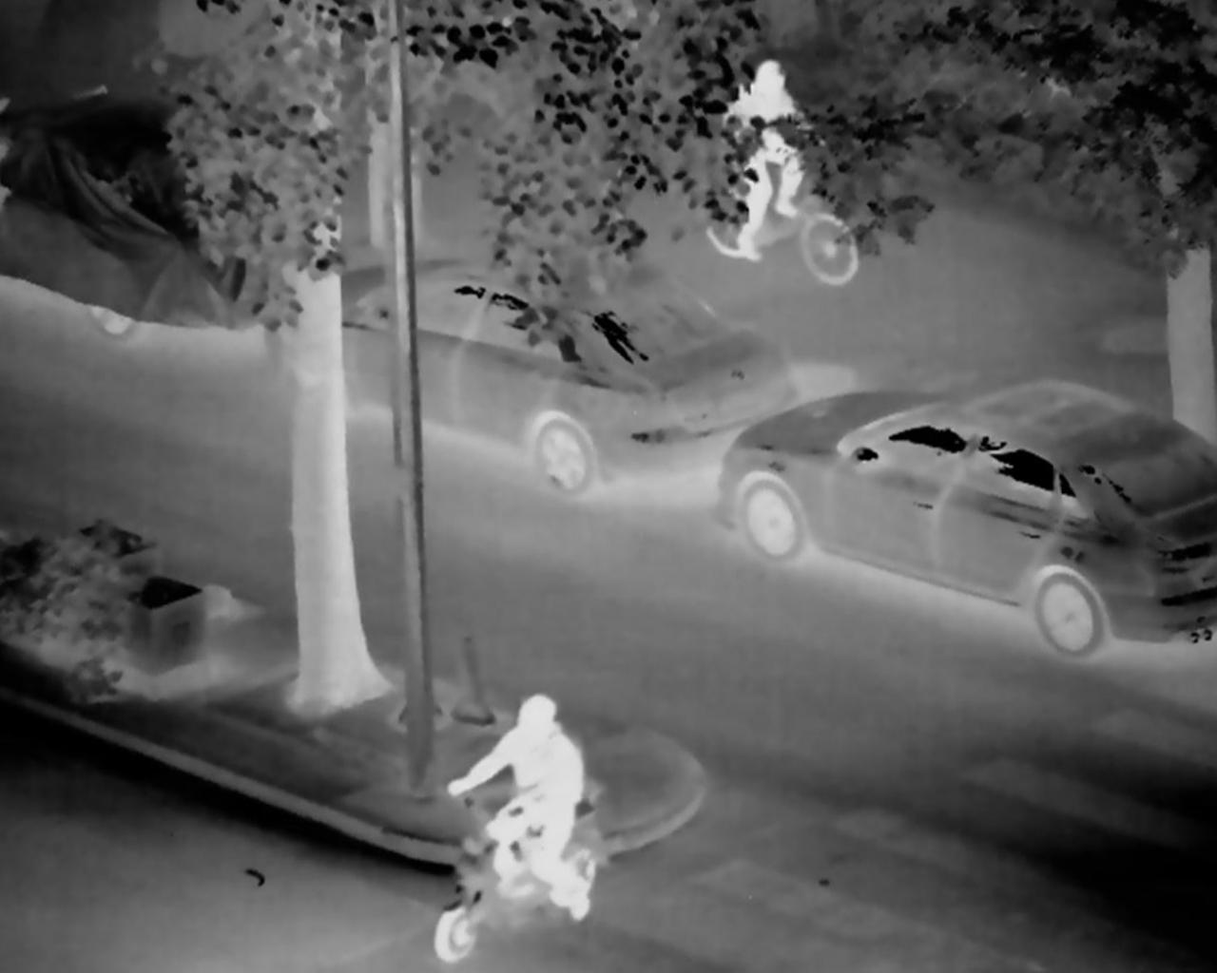person: (427, 689, 599, 973), (705, 60, 884, 291)
